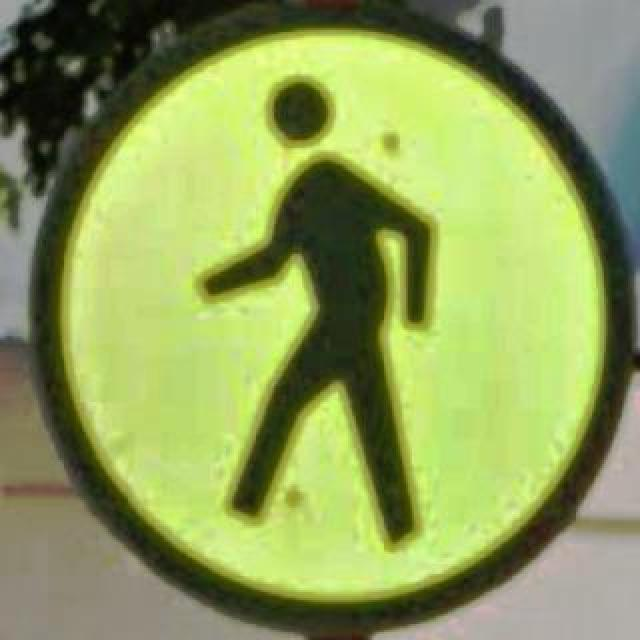pedestrian crossing: (28, 0, 632, 636)
